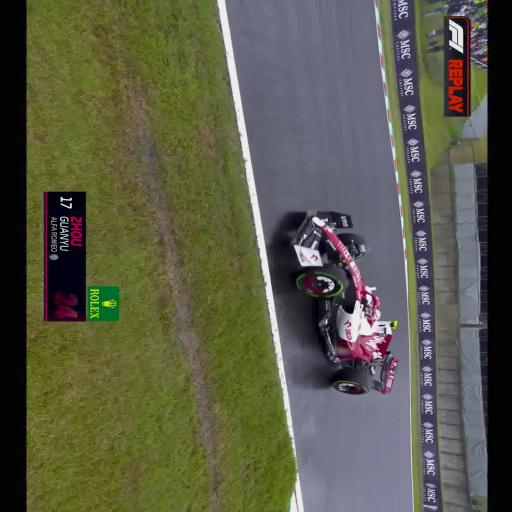f1_car: (292, 210, 398, 394)
